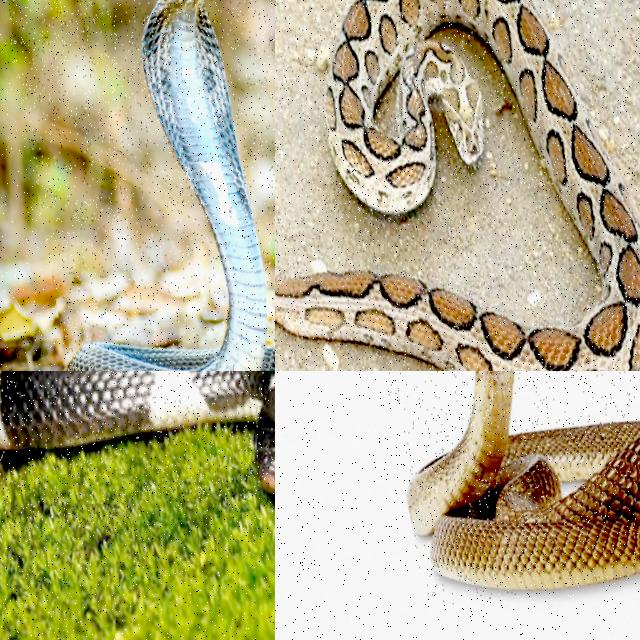Bungarus candidus: (0, 371, 274, 494)
Daboia siamensis: (275, 0, 639, 370)
Naja kaouthia: (409, 371, 639, 588)
Naja siamensis: (70, 0, 274, 370)
snake: (275, 0, 639, 370), (70, 0, 274, 370), (409, 371, 639, 588), (0, 371, 274, 494)
